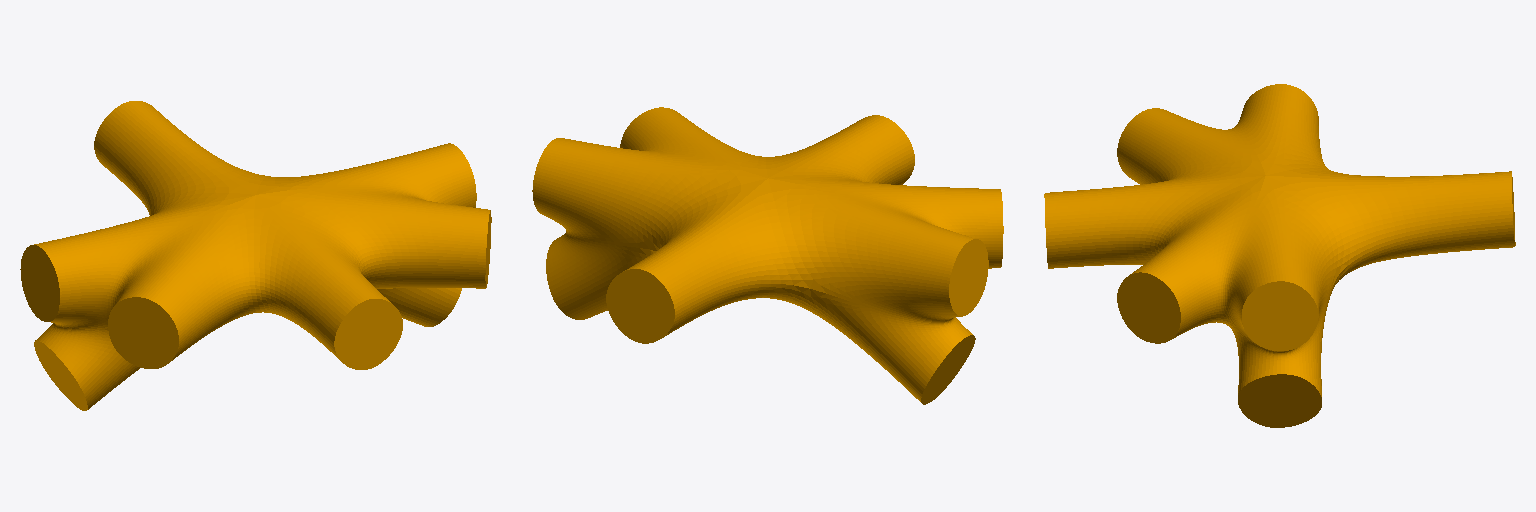
URDF robot description (object):
<robot name="object">
  <link name="object">
    <visual>
      <origin xyz="0 0 0"/>
      <geometry>
        <mesh filename="visual.obj" scale="1 1 1"/>
      </geometry>
    </visual>
    <collision>
      <origin xyz="0 0 0"/>
      <geometry>
        <mesh filename="visual.obj" scale="1 1 1"/>
      </geometry>
    </collision>
    <inertial>
      <mass value="0.05"/>
      <inertia ixx="3.196228148153732e-05" iyy="6.06702866301183e-05" izz="8.27289933295099e-05" ixy="-5.156648734655408e-09" ixz="-6.390217510632272e-08" iyz="-7.698595935862586e-08"/>
    </inertial>
  </link>
</robot>

--- Facts derived from the render (not from the file) ---
3 views of the same robot in one strip: view 1: azimuth 30°, elevation 25°; view 2: azimuth 150°, elevation 25°; view 3: azimuth 270°, elevation 25° (orthographic).
Robot: object — 1 links, 0 joints (none); root link object; default pose: every joint at zero.
Links seen in each view (by area): view 1: object; view 2: object; view 3: object.
Boxes of the visible links, x1,y1,x2,y2 form: object: (20,101,491,410); object: (532,107,1003,404); object: (1044,84,1515,427).
Size in the robot's own frame: 0.1351 by 0.1358 by 0.0548 metres.
1 mesh visuals loaded from 1 distinct referenced files (1 OBJ).
